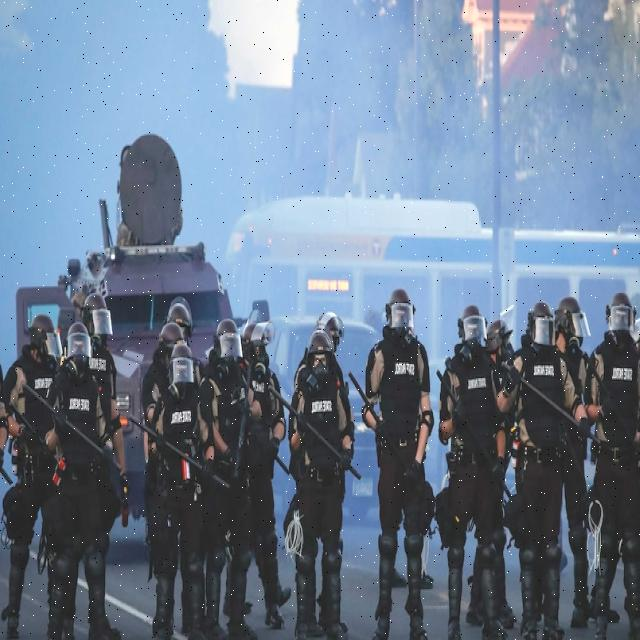police: (279, 289, 362, 640), (364, 255, 439, 640), (204, 272, 280, 640), (437, 286, 514, 640), (512, 267, 584, 640), (52, 267, 123, 640), (145, 283, 213, 640), (583, 274, 640, 640), (0, 307, 60, 640)
